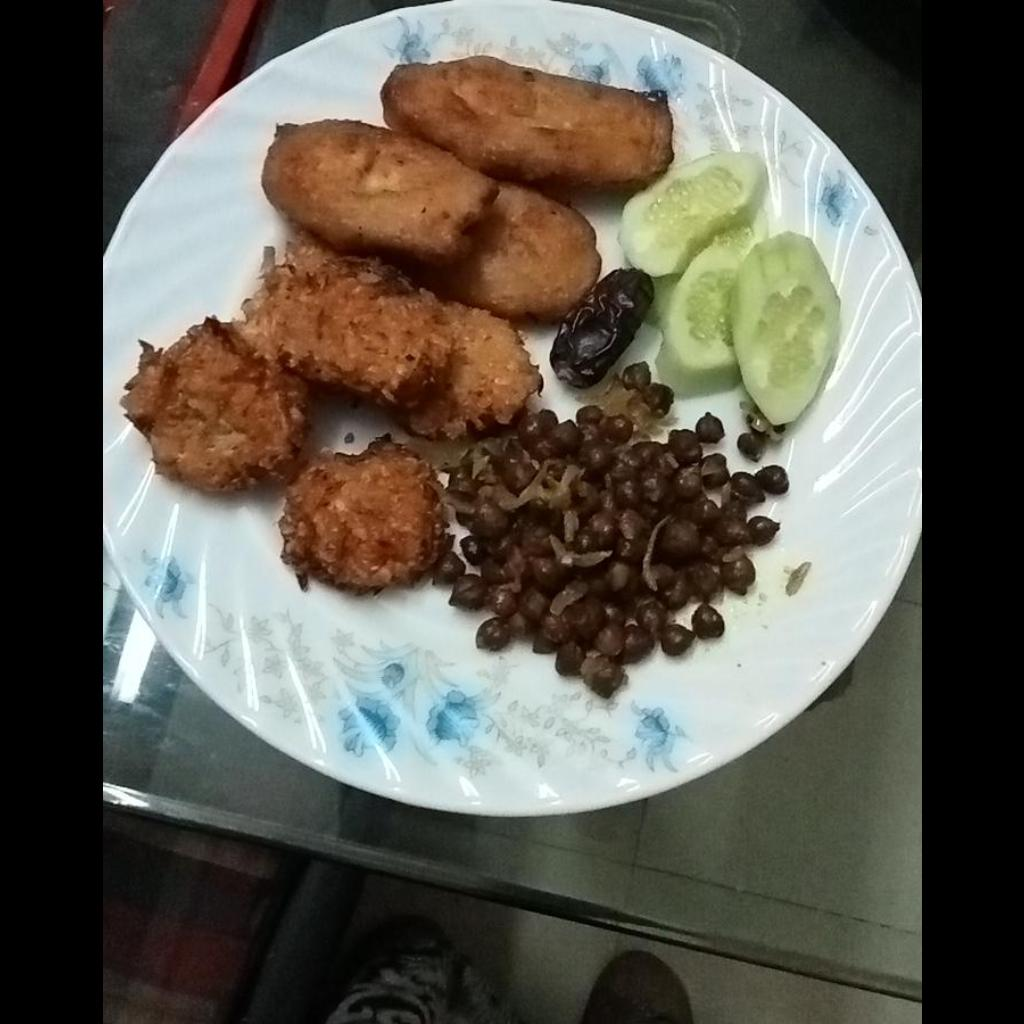beguni: (257, 58, 671, 313)
chola: (440, 366, 788, 693)
cucumber: (620, 147, 843, 431)
dates: (557, 271, 650, 385)
peyaju: (110, 245, 528, 585)
